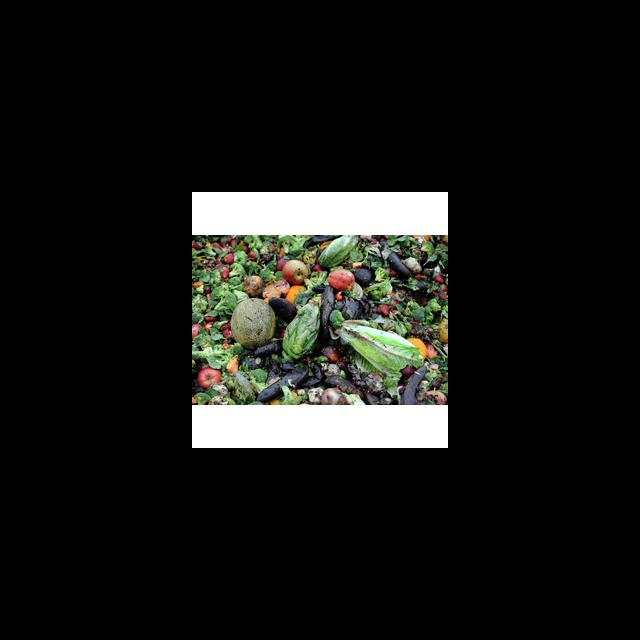food_waste: (193, 237, 447, 404)
